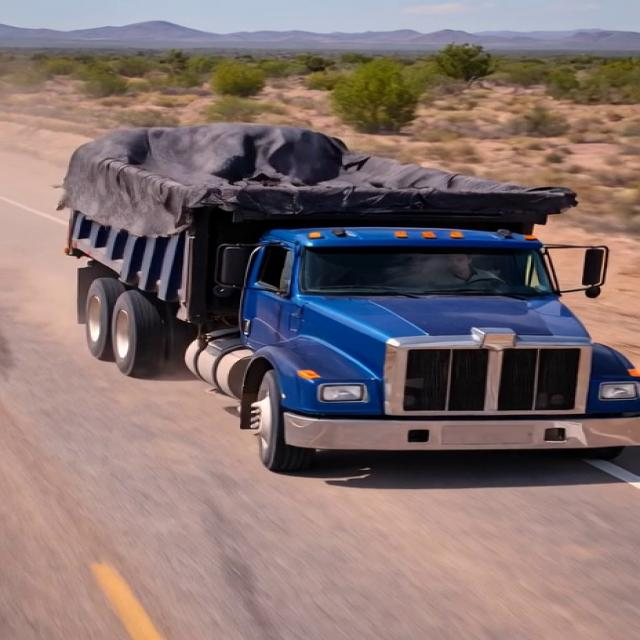Box: (54, 114, 580, 228)
Truck: (62, 72, 636, 476)
